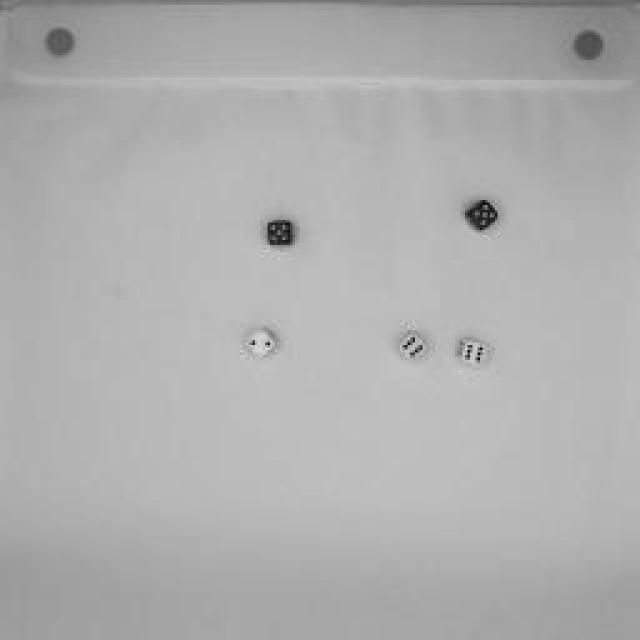dice_2: (241, 324, 284, 366)
dice_5: (462, 196, 502, 236), (259, 216, 301, 254)
dice_6: (448, 332, 494, 372), (394, 326, 436, 366)
